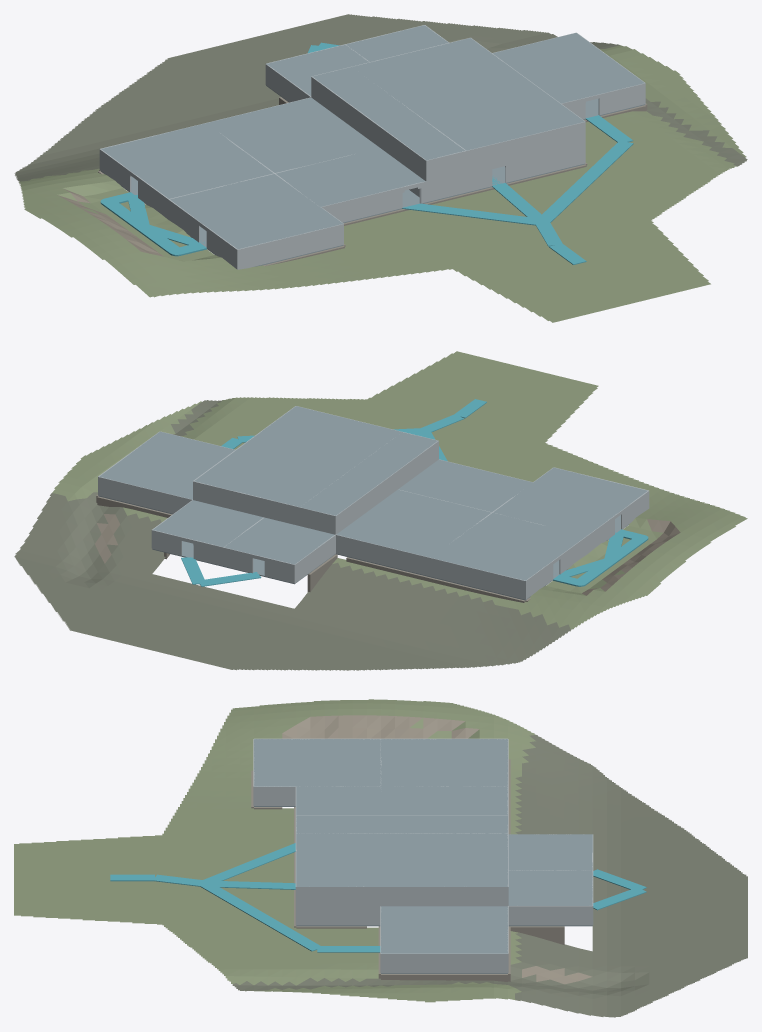
The model's file is cut-terrain.glb.
3 views of the same model, one above another, from view 1: azimuth 30°, elevation 25°; view 2: azimuth 150°, elevation 25°; view 3: azimuth 270°, elevation 25° (orthographic). The views are drawn at different scales.
Parts seen in each view (by area): view 1: Saved editor circulation terrain WLD-13, Ceiling cap processing, Ceiling cap bunk, Ceiling cap boiler, Ceiling cap mess, Ceiling cap cold, Ceiling cap wash, Flat route shell Wall processing S.001, Ceiling cap gallery, Flat route shell Wall processing S, Wall bunk S, Ceiling cap office (+15 smaller); view 2: Saved editor circulation terrain WLD-13, Ceiling cap processing, Ceiling cap mess, Ceiling cap boiler, Ceiling cap bunk, Ceiling cap cold, Ceiling cap wash, Ceiling cap gallery, Ceiling cap office, Ceiling cap stores, Wall mess N, Wall boiler N (+15 smaller); view 3: Saved editor circulation terrain WLD-13, Ceiling cap processing, Ceiling cap cold, Ceiling cap bunk, Ceiling cap mess, Flat route shell Wall processing E.001, Ceiling cap boiler, Ceiling cap office, Ceiling cap stores, Wall cold E, Ceiling cap wash, Wall stores E (+6 smaller).
Boxes of the visible parts, <box> form: Saved editor circulation terrain WLD-13: <box>14,14,747,322</box>; Ceiling cap processing: <box>313,38,584,159</box>; Ceiling cap bunk: <box>170,174,342,249</box>; Ceiling cap boiler: <box>206,97,379,172</box>; Ceiling cap mess: <box>101,123,273,198</box>; Ceiling cap cold: <box>493,33,644,103</box>; Ceiling cap wash: <box>276,148,425,206</box>; Flat route shell Wall processing S.001: <box>505,122,585,182</box>; Ceiling cap gallery: <box>312,67,439,160</box>; Flat route shell Wall processing S: <box>426,144,492,201</box>; Wall bunk S: <box>237,224,343,269</box>; Ceiling cap office: <box>266,44,368,95</box>; Saved editor circulation terrain WLD-13: <box>14,351,747,670</box>; Ceiling cap processing: <box>194,406,437,515</box>; Ceiling cap mess: <box>431,513,586,580</box>; Ceiling cap boiler: <box>336,489,491,557</box>; Ceiling cap bunk: <box>493,467,647,535</box>; Ceiling cap cold: <box>99,431,234,499</box>; Ceiling cap wash: <box>398,459,532,512</box>; Ceiling cap gallery: <box>300,438,435,515</box>; Ceiling cap office: <box>224,517,334,564</box>; Ceiling cap stores: <box>153,500,263,546</box>; Wall mess N: <box>430,557,525,599</box>; Wall boiler N: <box>336,534,430,576</box>; Saved editor circulation terrain WLD-13: <box>14,699,747,1017</box>; Ceiling cap processing: <box>296,815,507,886</box>; Ceiling cap cold: <box>381,906,507,953</box>; Ceiling cap bunk: <box>254,739,380,786</box>; Ceiling cap mess: <box>381,739,507,786</box>; Flat route shell Wall processing E.001: <box>296,886,439,925</box>; Ceiling cap boiler: <box>381,786,507,814</box>; Ceiling cap office: <box>508,834,592,870</box>; Ceiling cap stores: <box>508,870,592,905</box>; Wall cold E: <box>381,953,507,973</box>; Ceiling cap wash: <box>296,786,380,814</box>; Wall stores E: <box>508,906,592,925</box>.
Bounding box in the file's own units: 97 × 11.19 × 104.
